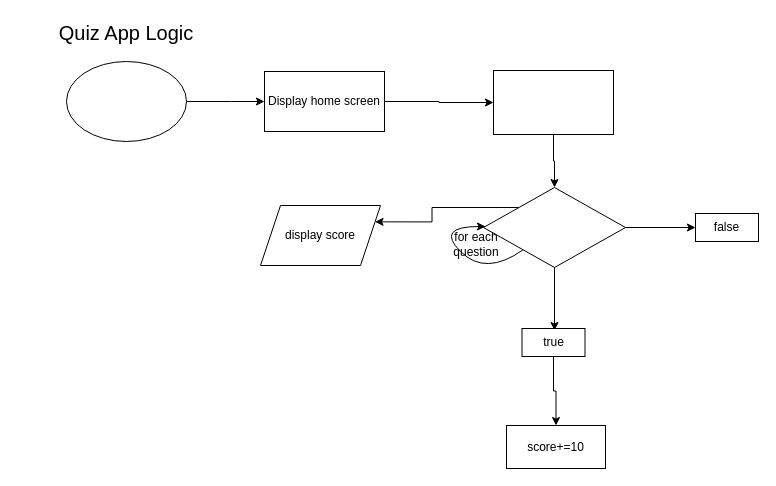
Some shapes in this 776 by 486 pixel diagram are drawn without their labels. Here are the shapes that lost their labels. From the top down, the box of each, then its label:
(66, 60, 186, 142): Quiz App Launched
(492, 70, 614, 134): answer questions
(482, 186, 626, 268): gets question right
